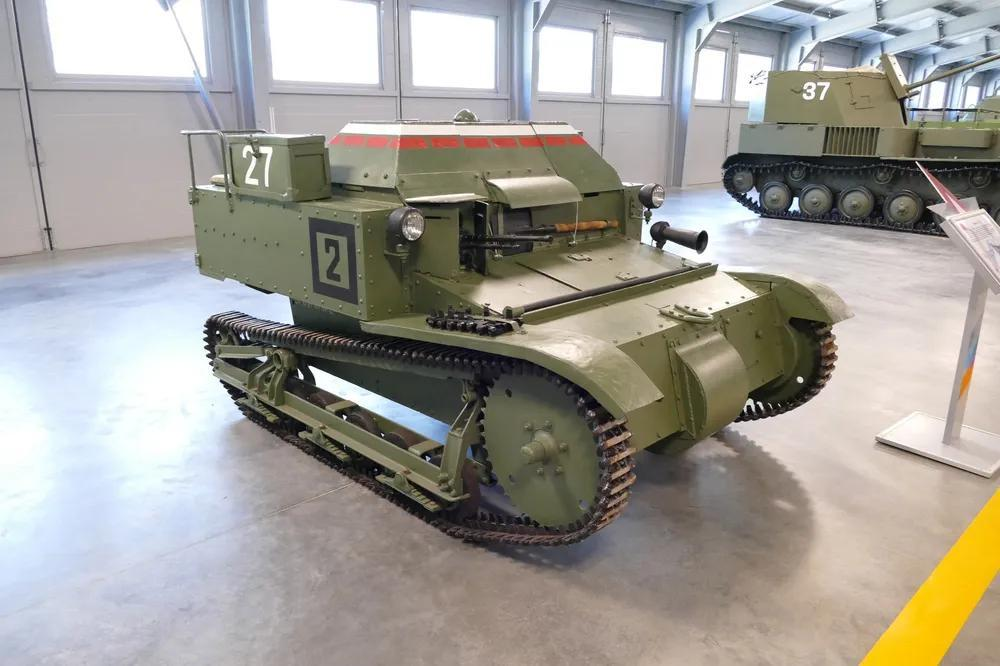MIL_IFV: (184, 106, 849, 554)
